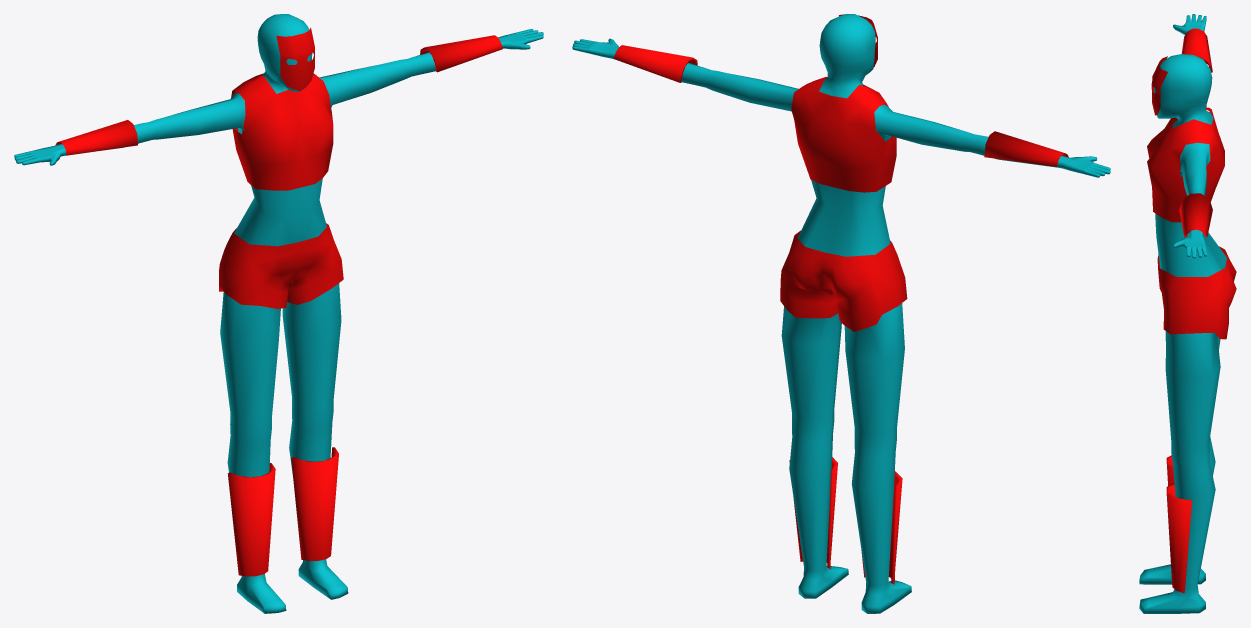
Rendered from d-func.obj.
The picture shows the model from 3 angles, left to right: view 1: azimuth 30°, elevation 25°; view 2: azimuth 150°, elevation 25°; view 3: azimuth 270°, elevation 25°; orthographic projection. The views are drawn at different scales.
Parts seen in each view (by area): view 1: D-Func_Cube; view 2: D-Func_Cube; view 3: D-Func_Cube.
Boxes of the visible parts, x1,y1,x2,y2 form: D-Func_Cube: (14,14,543,613); D-Func_Cube: (572,14,1110,613); D-Func_Cube: (1139,14,1236,613).
Bounding box in the file's own units: 2.06 × 2.13 × 0.3498.
